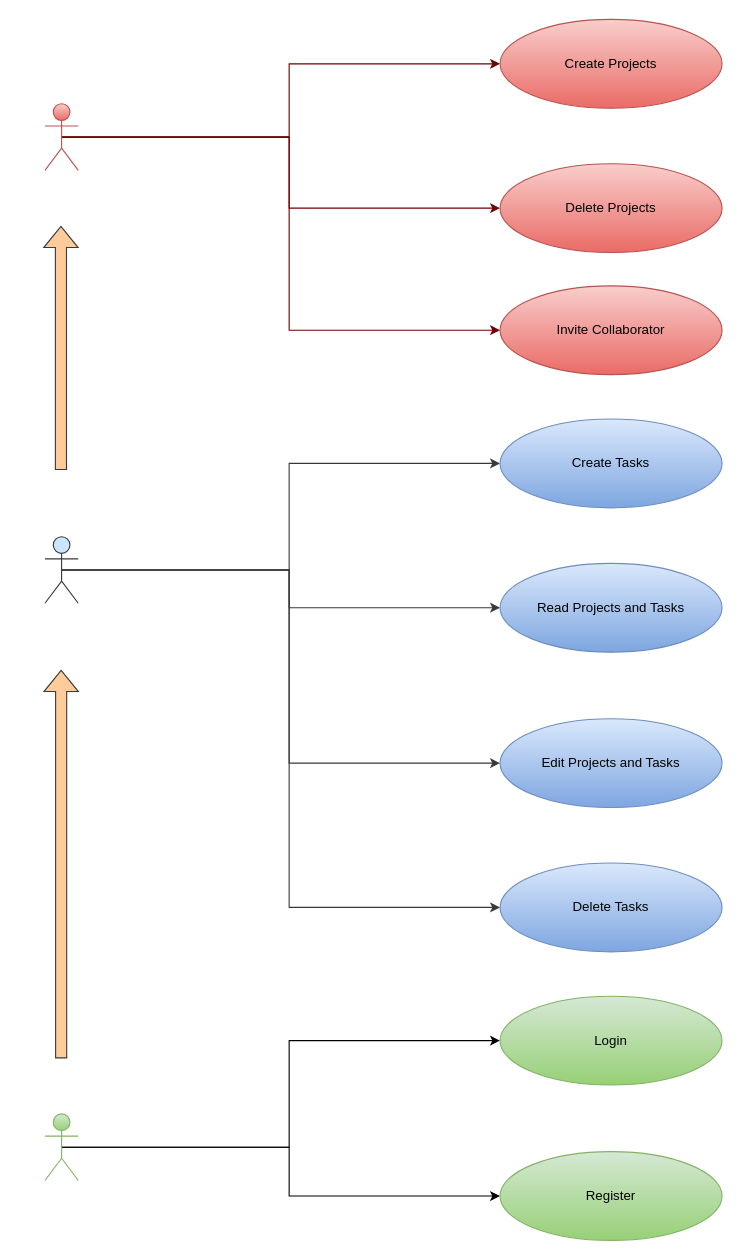
Some shapes in this 743 by 1260 pixel diagram are drawn without their labels. The shapes that lost their labels are listed below. From the top down, each one's box as (x1, y1, x2, y2) in pixels, then its label:
(44, 103, 78, 170): Project Owner
(44, 536, 78, 603): Collaborator
(44, 1113, 78, 1180): Visitor
